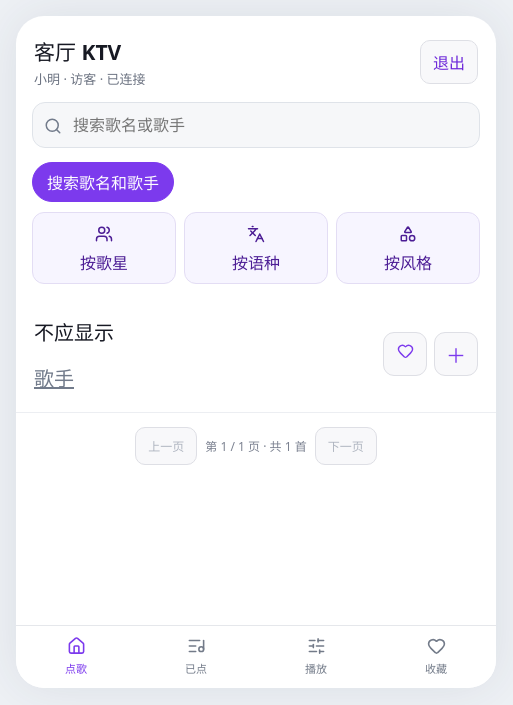
Test case: mobile application shell › keeps the singer browse view exclusive from the song result list
Expected: the button "不应显示" is shown, [34,309,114,353]
Click the button "按歌星" at (104, 248), box [32,212,176,284]
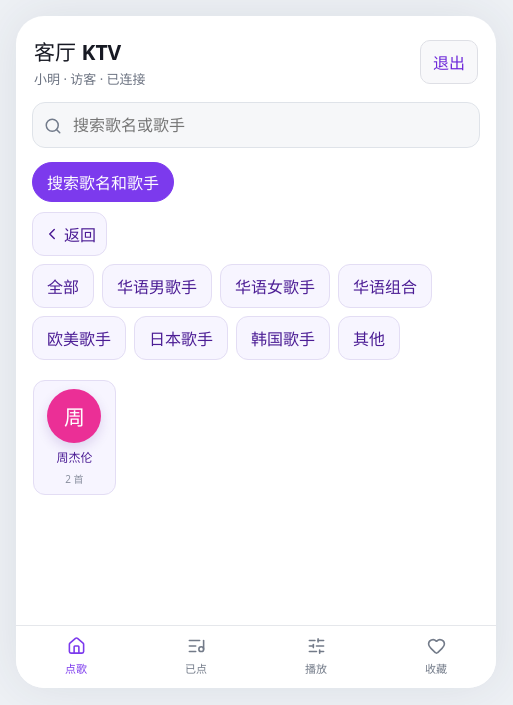
Expected: the button "周 周杰伦 2 首" is shown, [33,380,116,495]
Expected: the button "不应显示" is gone
Expected: the element "搜索结果" is gone
